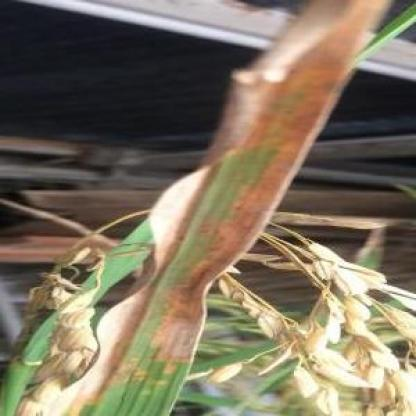Blight: (4, 1, 374, 416)
